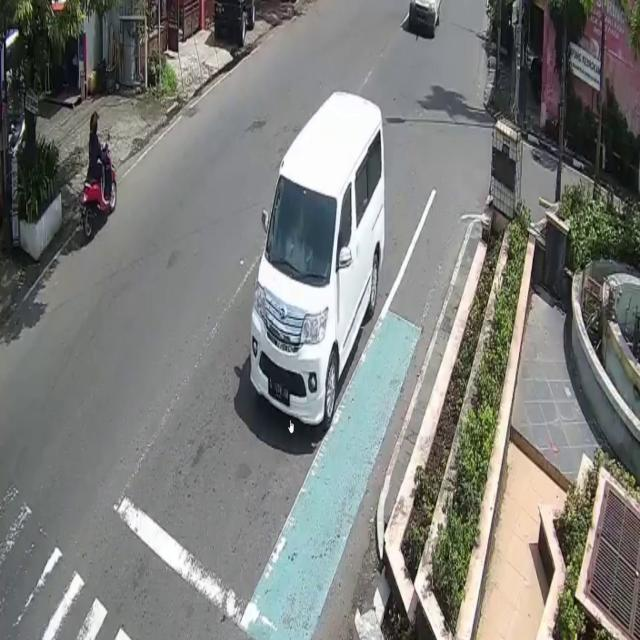car: (250, 86, 384, 433)
motorbike: (80, 133, 116, 244)
